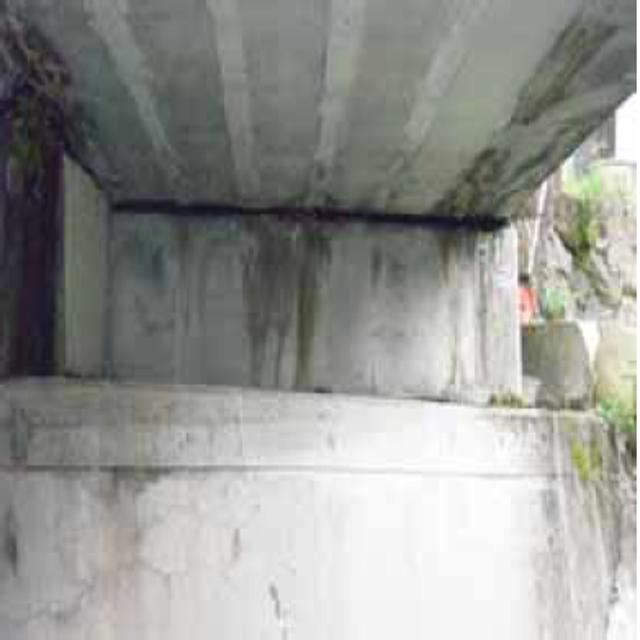leakage: (1, 20, 90, 379), (258, 194, 322, 403)
